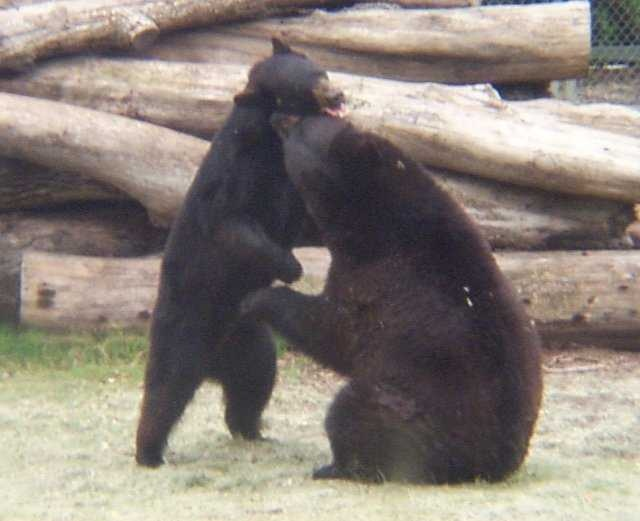bear: (262, 103, 390, 231), (231, 34, 359, 162)
